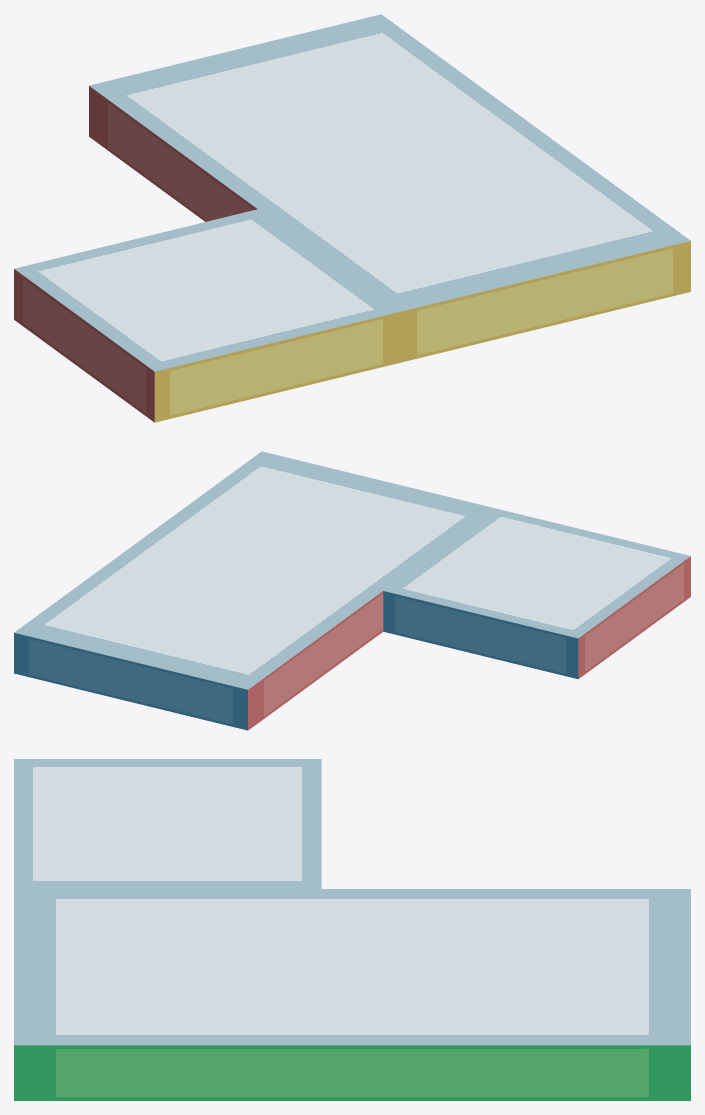
Rendered from Metallplatte3.fbx.
3 views of the same model, one above another, from view 1: azimuth 30°, elevation 25°; view 2: azimuth 150°, elevation 25°; view 3: azimuth 270°, elevation 25° (orthographic). The views are drawn at different scales.
Visible parts, largest first — view 1: cube, cube_1; view 2: cube, cube_1; view 3: cube, cube_1.
Part boxes in pixels (left/top/right/bottom): cube: left=89, top=14, right=690, bottom=363; cube_1: left=14, top=209, right=398, bottom=422; cube: left=14, top=451, right=495, bottom=730; cube_1: left=383, top=508, right=690, bottom=679; cube: left=14, top=889, right=690, bottom=1100; cube_1: left=14, top=759, right=321, bottom=888.
Size of the model in its own units: 68.75 by 6.25 by 68.75.
Materials: 1 (1 with a texture image).
